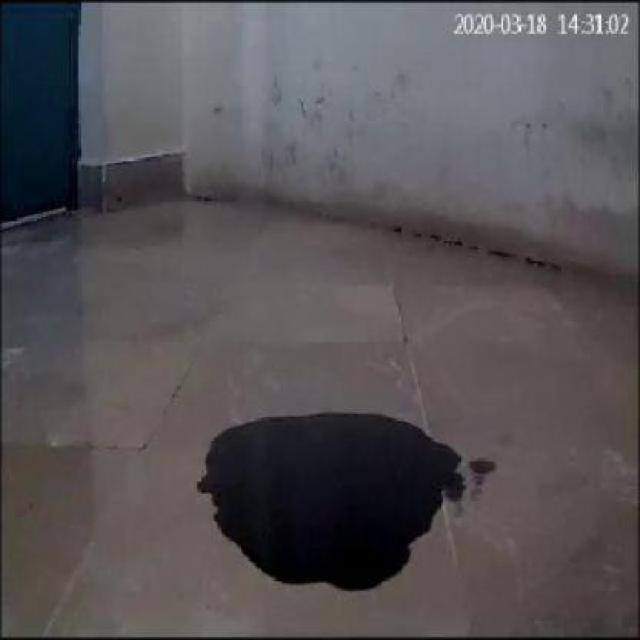spillage: (196, 414, 495, 594)
